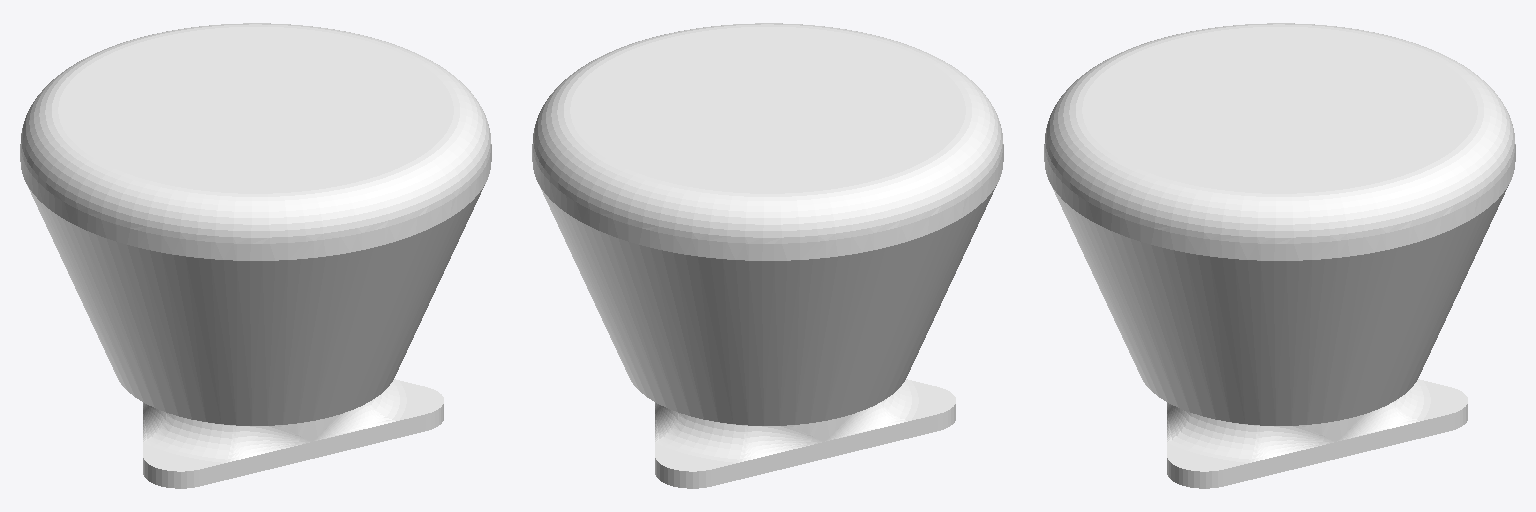
URDF robot description (fingertip.urdf):
<robot name="fingertip.urdf">
  <link name="baseLink">
    <contact>
      <lateral_friction value="0.2"/>
      <rolling_friction value="1e-6"/>
      <spinning_friction value="1e-6"/>
      <contact_cfm value="0.0"/>
      <contact_erp value="1.0"/>
    </contact>
    <inertial>
       <origin rpy="0 0 0" xyz="0 0.0 0.0"/>
       <mass value="0.025"/>
       <inertia ixx="1e-7" ixy="0" ixz="0" iyy="1e-7" iyz="0" izz="1e-7"/>
    </inertial>
    <visual>
      <geometry>
        <mesh filename="delta-feet-shoe-25mm-urdf.stl" scale="0.001 0.001 0.001"/>
      </geometry>
      <material name="white">
        <color rgba="1 1 1 1"/>
      </material>
    </visual>
    <collision>
      <geometry>
    	 	<mesh filename="delta-feet-shoe-25mm-urdf.stl" scale="0.001 0.001 0.001"/>
      </geometry>
    </collision>
  </link>
</robot>

--- Facts derived from the render (not from the file) ---
Views: 3 orthographic renders of the robot side by side, from view 1: azimuth 30°, elevation 25°; view 2: azimuth 150°, elevation 25°; view 3: azimuth 270°, elevation 25°.
Robot: fingertip.urdf — 1 links, 0 joints (none); root link baseLink; default pose: all joints at 0.
Links seen in each view (by area): view 1: baseLink; view 2: baseLink; view 3: baseLink.
Boxes of the visible links, x1=… form: baseLink: x1=20, y1=23, x2=491, y2=488; baseLink: x1=532, y1=23, x2=1003, y2=488; baseLink: x1=1044, y1=23, x2=1515, y2=488.
Size in the robot's own frame: 0.025 by 0.025 by 0.018 metres.
Meshes: 1 distinct files referenced, 1 mesh visuals loaded (1 binary STL).